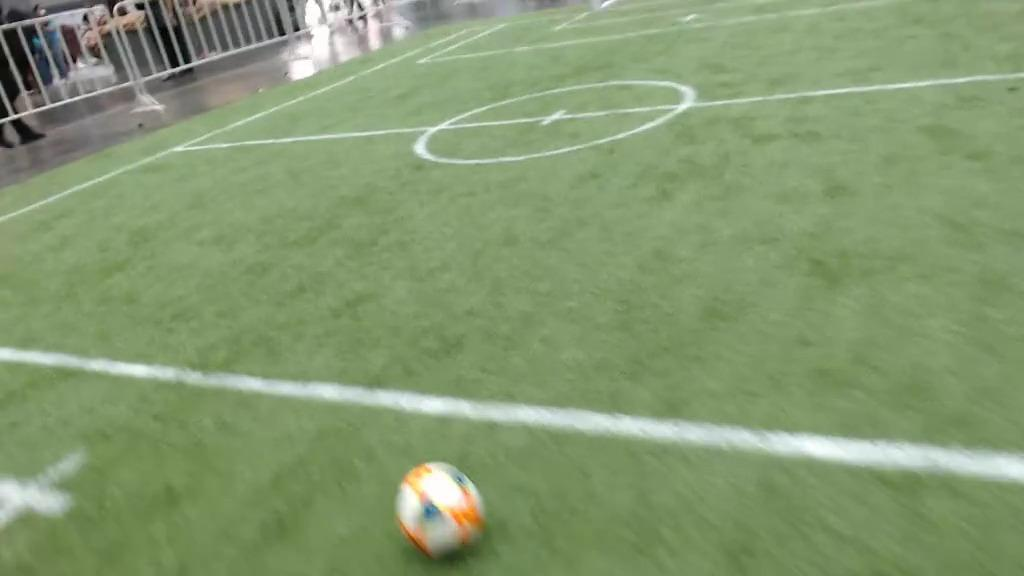ball: (395, 460, 486, 562)
